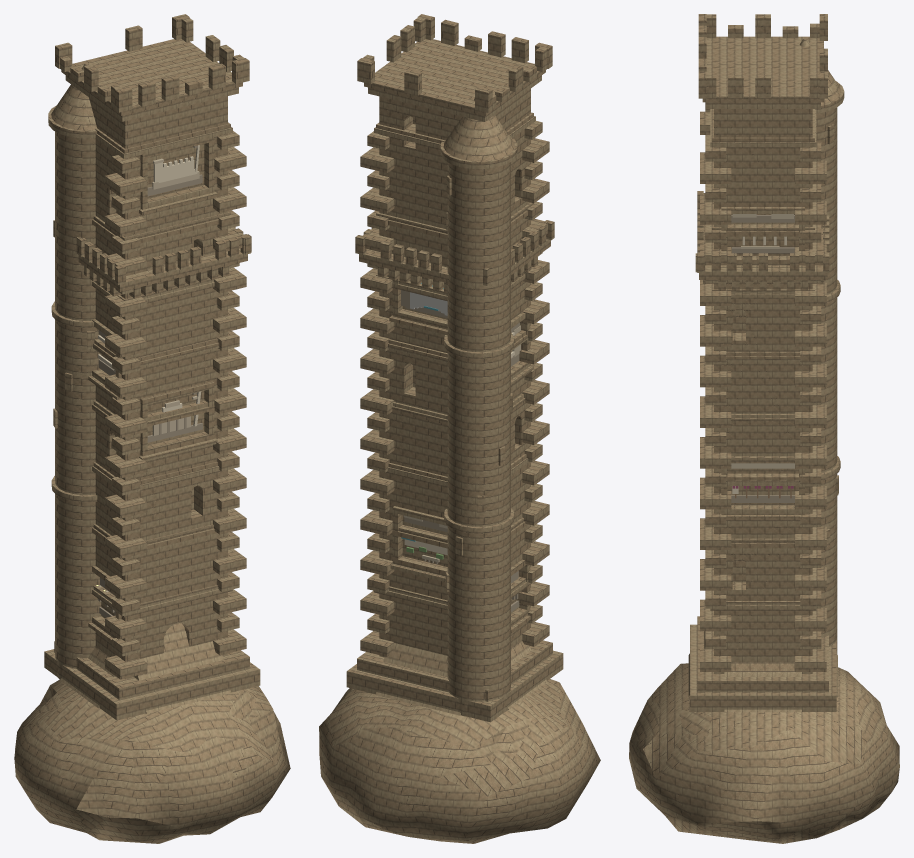
The model's file is kule.glb.
3 views of the same model, side by side, from view 1: azimuth 30°, elevation 25°; view 2: azimuth 150°, elevation 25°; view 3: azimuth 270°, elevation 25° (orthographic).
Parts seen in each view (by area): view 1: Kule, Dioramalar; view 2: Kule, Dioramalar; view 3: Kule, Dioramalar.
Boxes of the visible parts, x1,y1,x2,y2 form: Kule: (14, 14, 290, 843); Dioramalar: (96, 145, 202, 617); Kule: (319, 14, 600, 843); Dioramalar: (401, 280, 520, 612); Kule: (629, 14, 899, 843); Dioramalar: (731, 214, 794, 502).
Bounding box in the file's own units: 19.44 × 56.58 × 18.1.
Materials: 10 (1 with a texture image).
